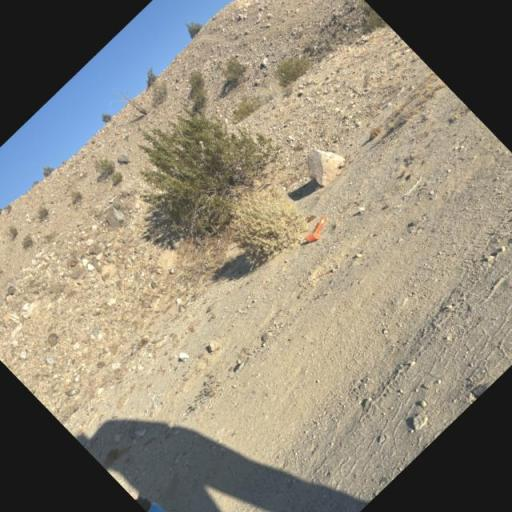bottle: (130, 478, 223, 512)
mallet: (294, 207, 336, 250)
